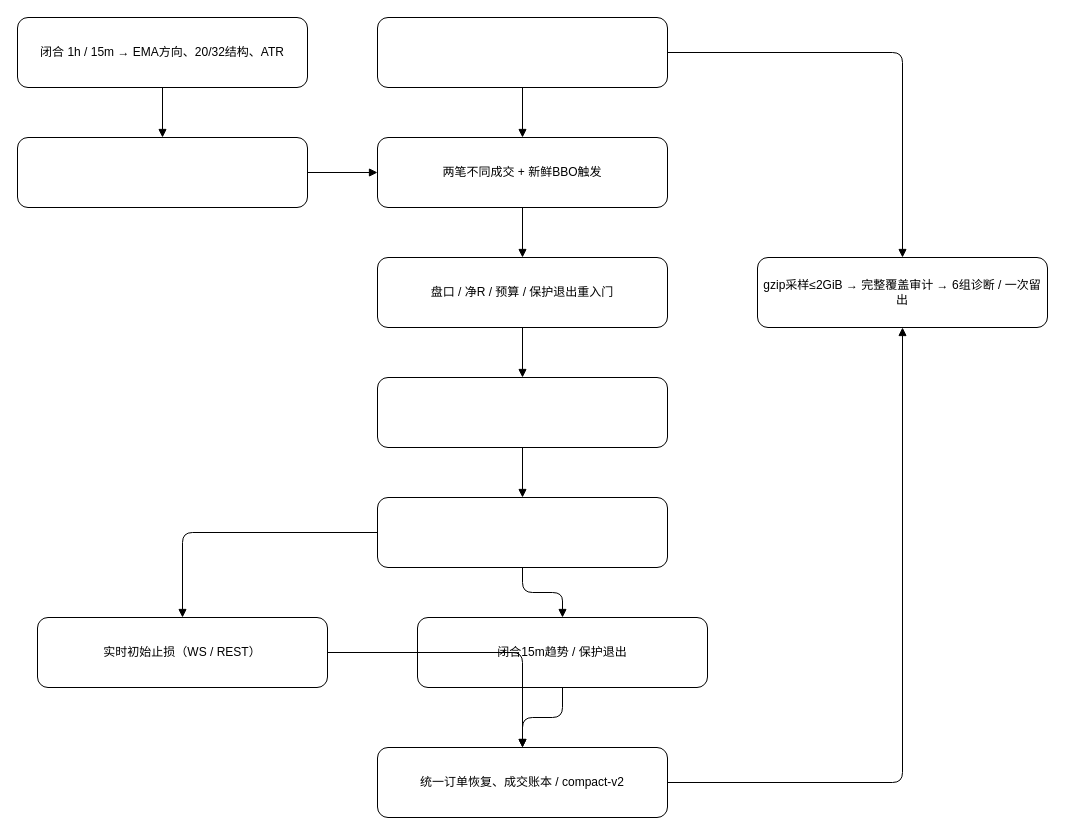
Image size: 1065x835. Some labels were removed from this diagram. The centre of each missing label's shape, as x and y in pixels:
公开 WS：成交 / BBO / 连接代次: the point at 522,52
唯一 writer：持久意图 → IOC限价: the point at 522,412
结构计划：反弹回落 / 突破回踩: the point at 162,172
逐笔实际仓位 + 原归属参数快照: the point at 522,532
